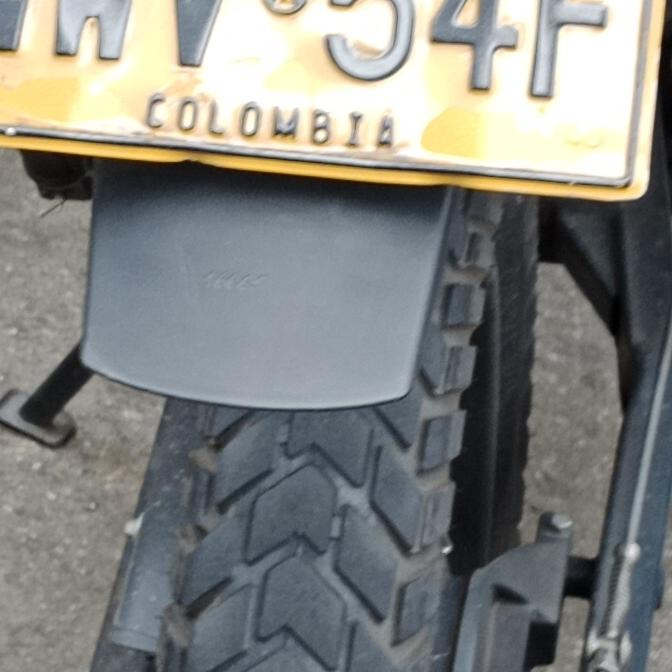plates: (0, 0, 671, 213)
